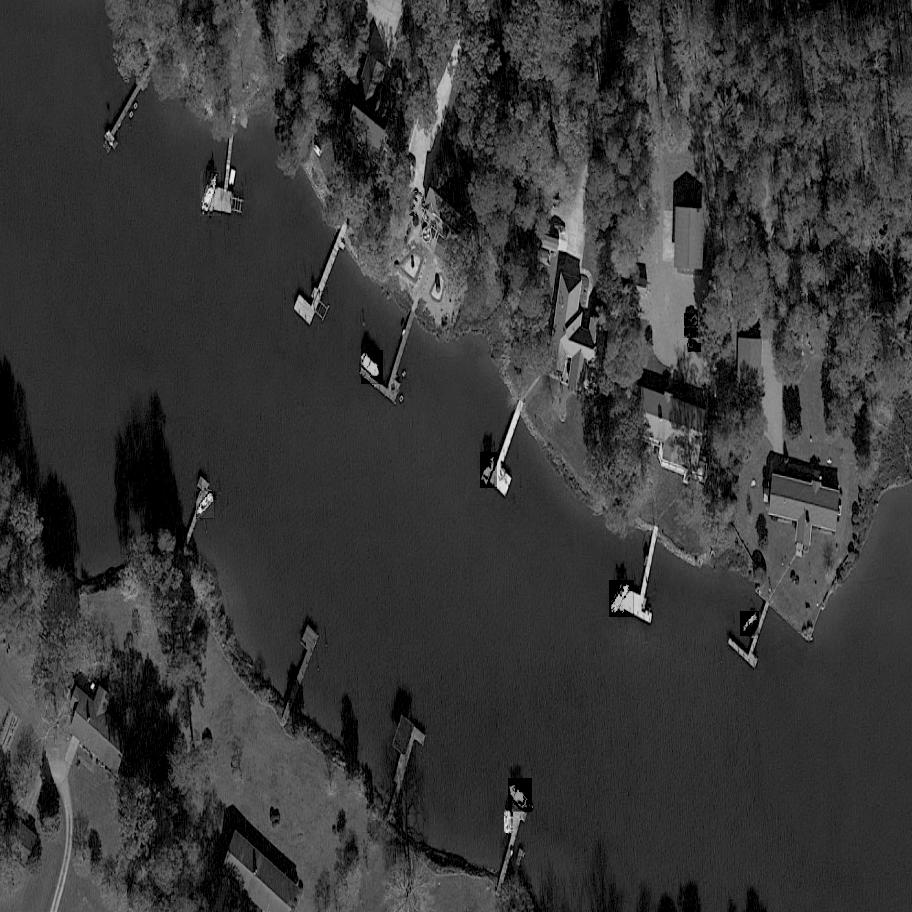ship: (200, 172, 224, 217), (608, 580, 636, 618), (505, 778, 536, 812), (357, 351, 387, 385), (479, 453, 500, 488), (195, 492, 219, 520), (738, 612, 762, 637), (505, 810, 513, 833)
small-vehicle: (405, 192, 423, 216), (684, 313, 700, 326), (684, 328, 698, 338), (688, 344, 701, 351)
